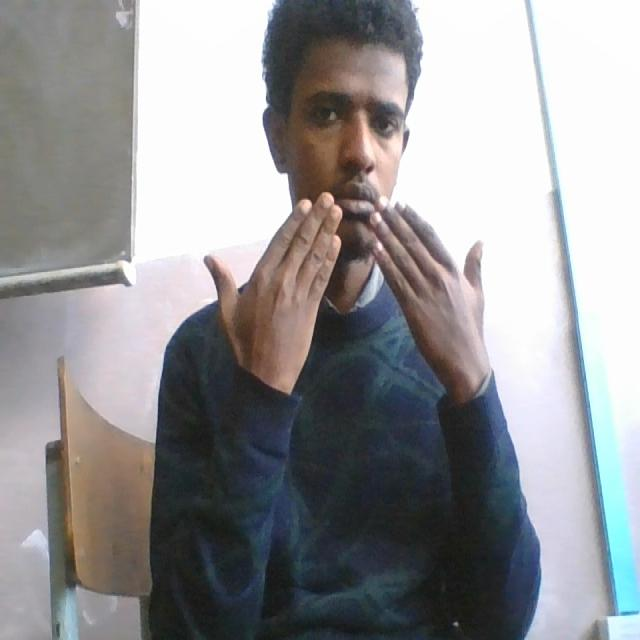ymesgen: (200, 187, 497, 383)
